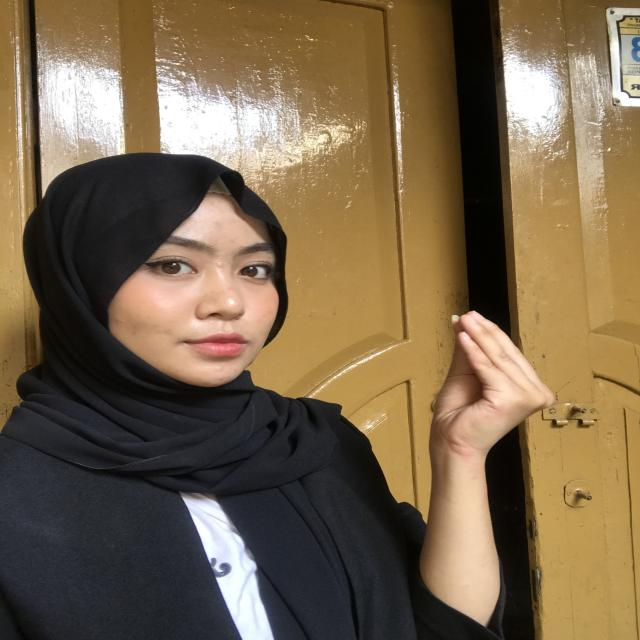kapan: (375, 298, 552, 508)
